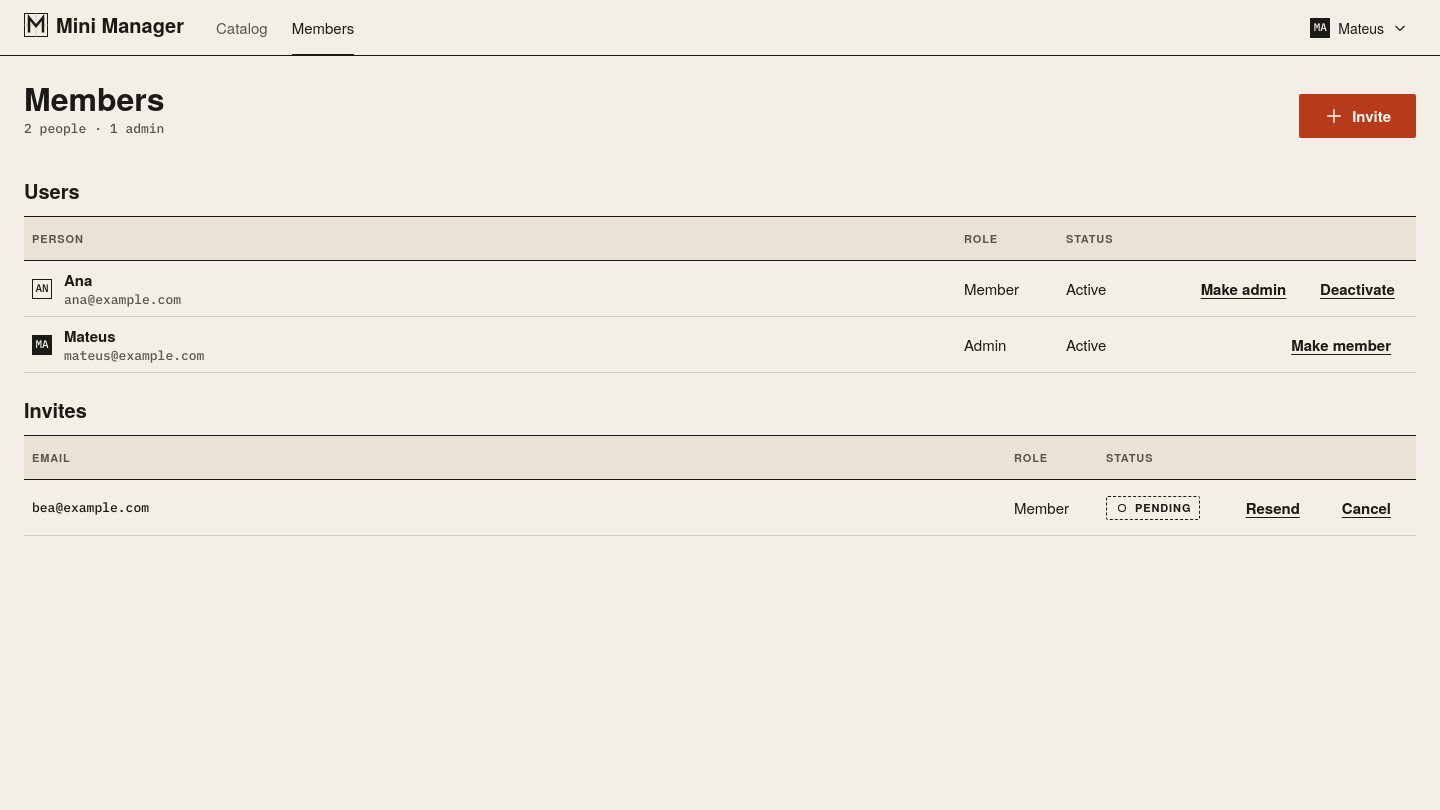
Test case: MembersPage › card 1 rule 4: resends an invite and shows the new link
Click the button with aria-label "Resend invite to bea@example.com". click: coordinates (1273, 508)
box: [1229,492,1317,524]
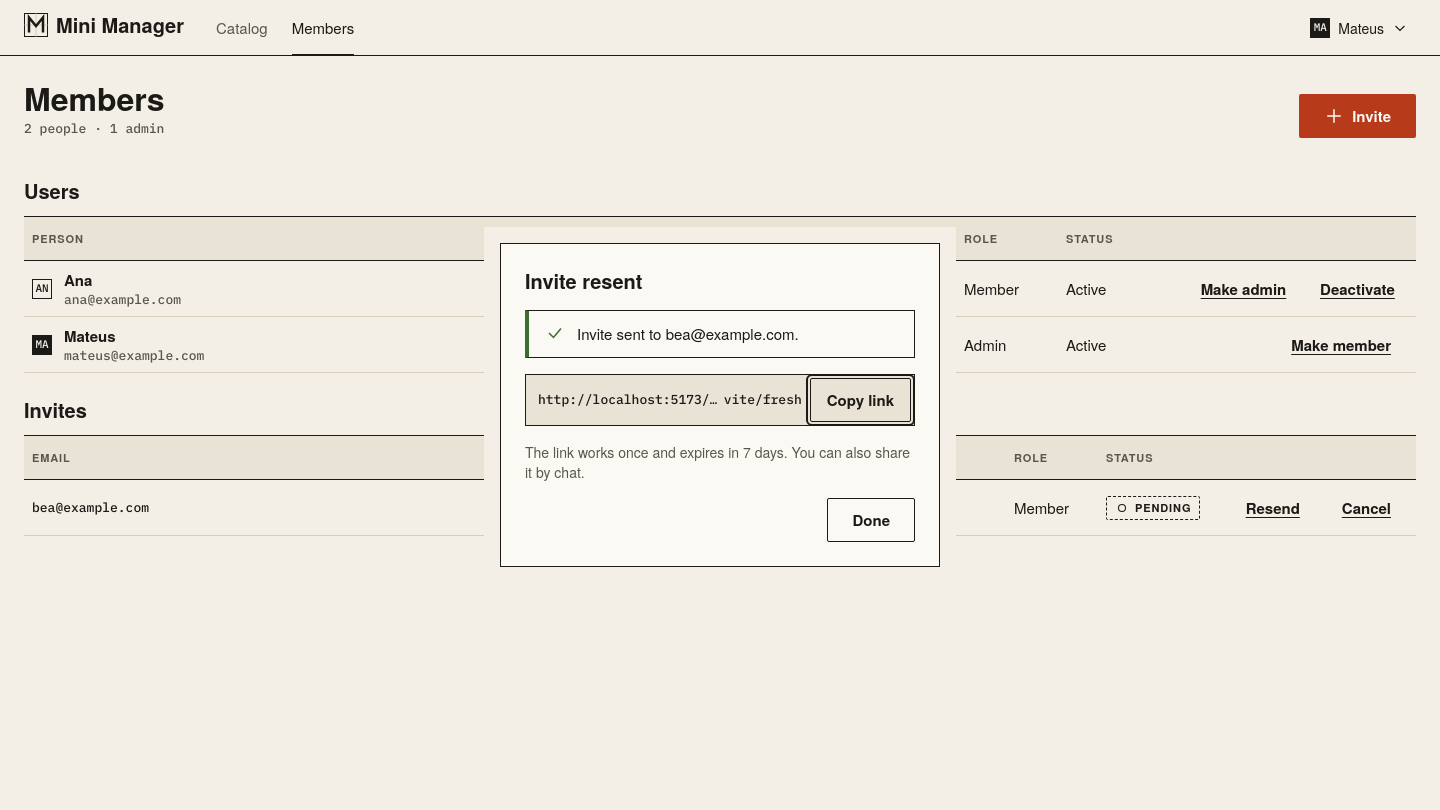
Result: the element titled "http://localhost:5173/invite/fresh" is shown at [538,391,802,409]
